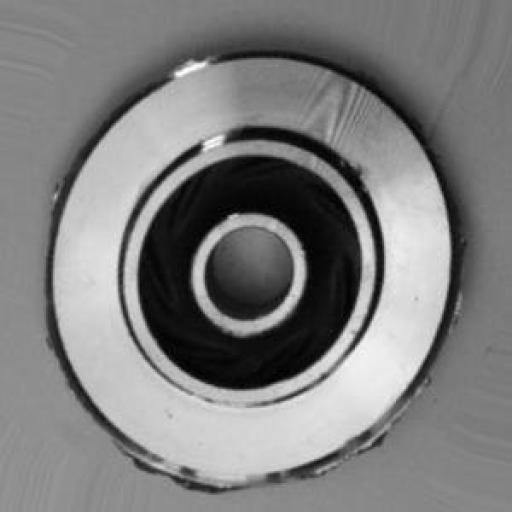defect: (28, 23, 492, 493)
